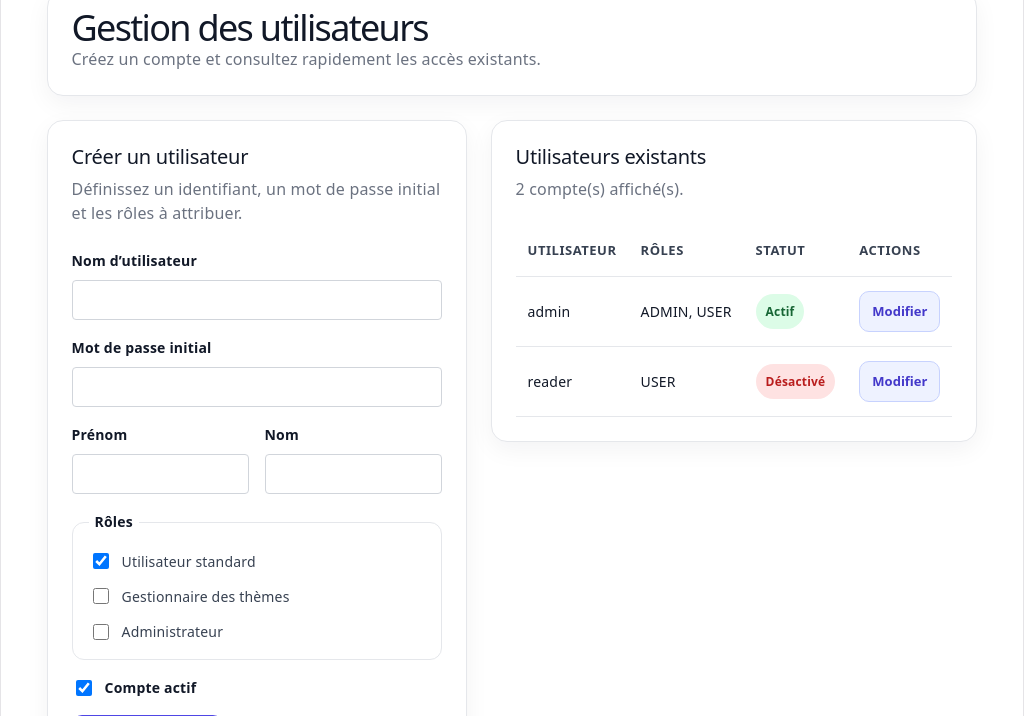
UserAdminPage › submits a password reset for the selected user and clears the field after success
Expected: the cell "admin" is shown, x1=516 y1=276 x2=628 y2=347
Click the button named "Modifier admin". click: (900, 312)
box: x1=859 y1=291 x2=940 y2=332
(page scrolled)
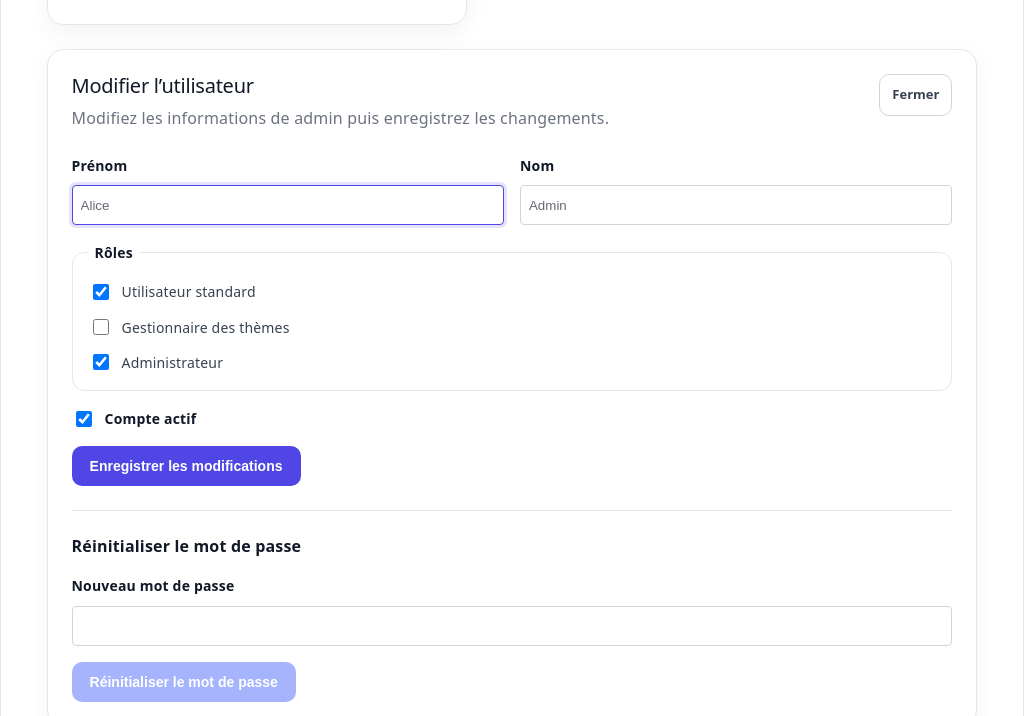
Type "reset123!" into the password field labelled "Nouveau mot de passe". click: (512, 626)
box: x1=72 y1=606 x2=952 y2=646
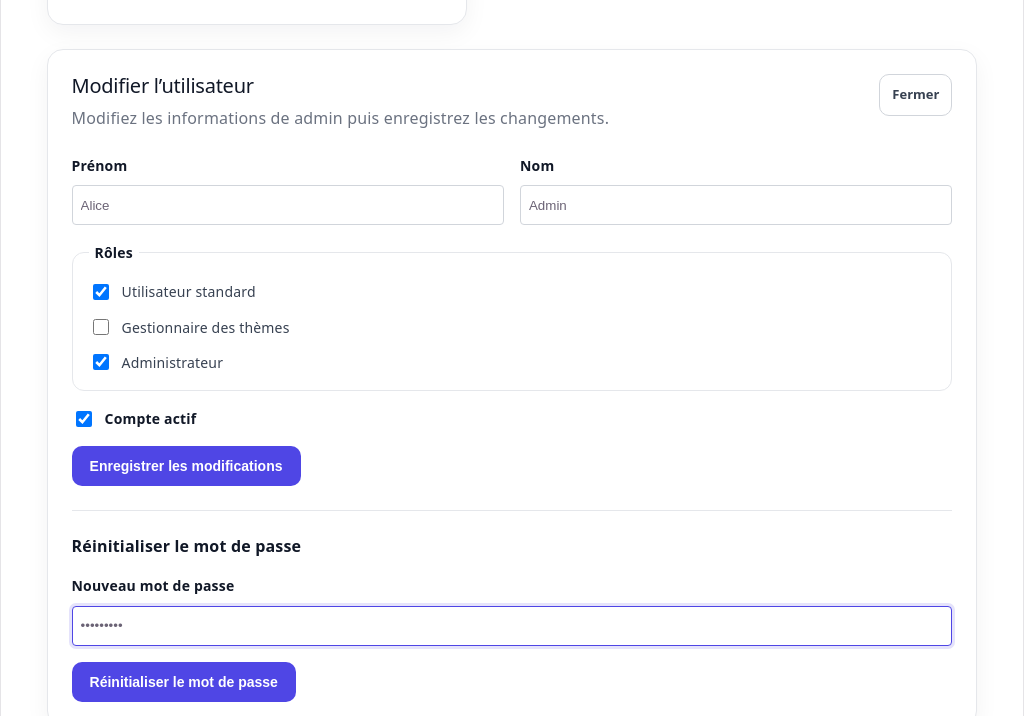
Click the button "Réinitialiser le mot de passe". click: (184, 682)
box: x1=72 y1=662 x2=296 y2=702
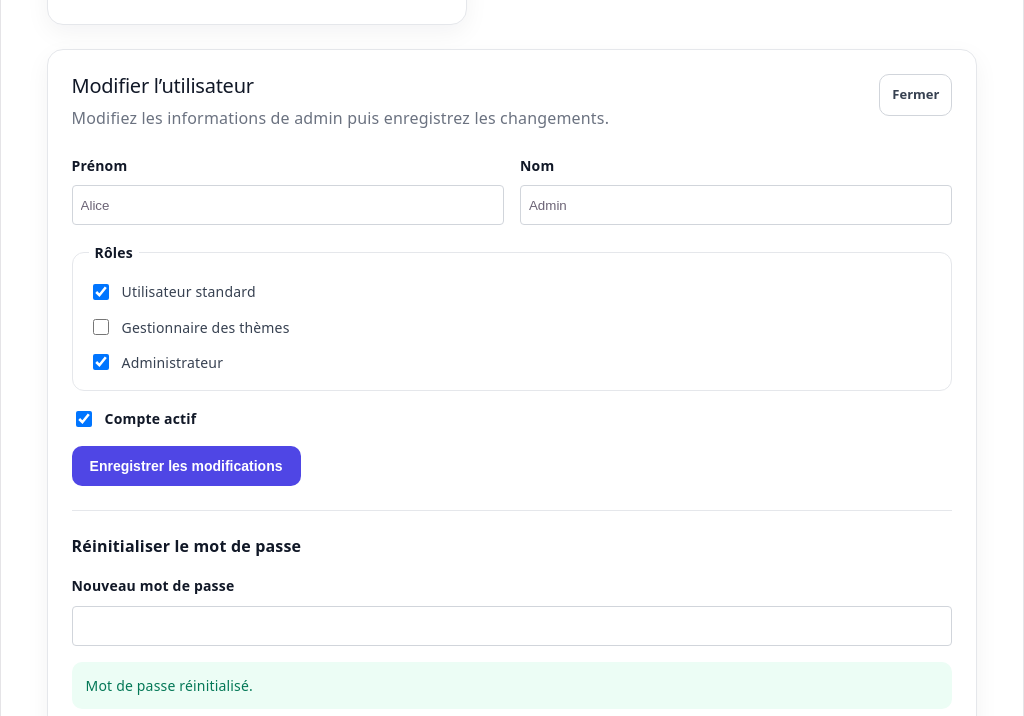
Now the text "Mot de passe réinitialisé." is shown, box x1=72 y1=662 x2=952 y2=709
Now the password field labelled "Nouveau mot de passe" is empty, box x1=72 y1=606 x2=952 y2=646
